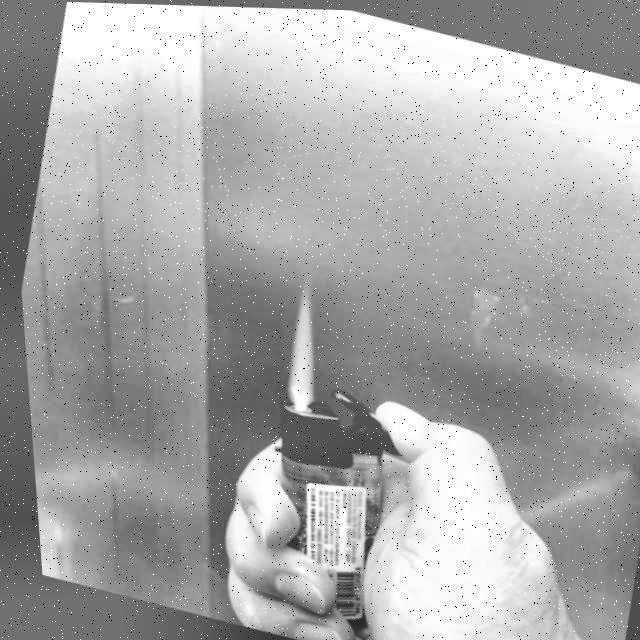Fire: (267, 282, 332, 407)
